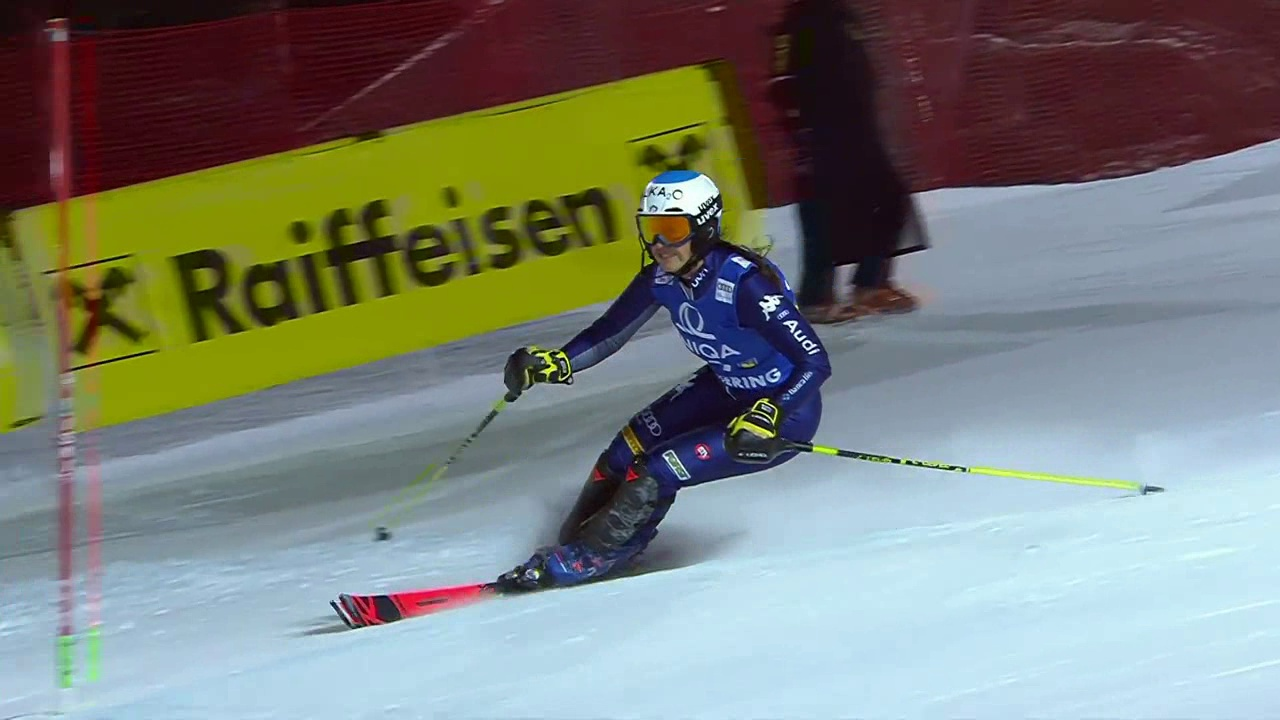uniqa: (670, 304, 737, 369)
